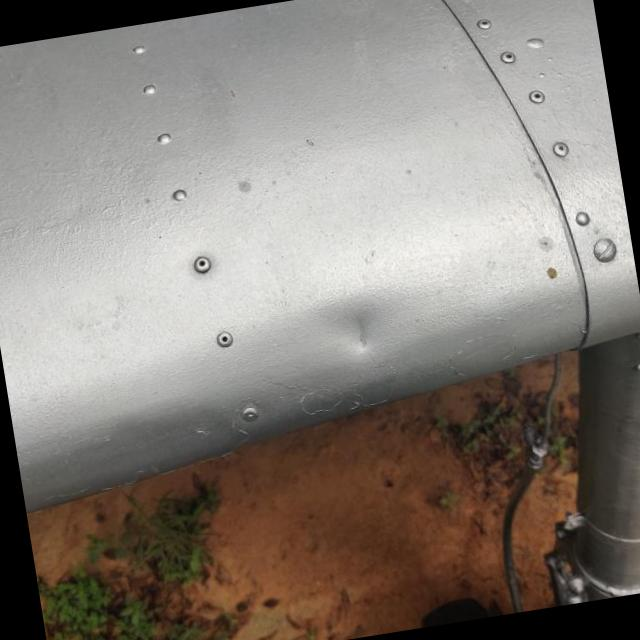Dent: (309, 282, 417, 406)
